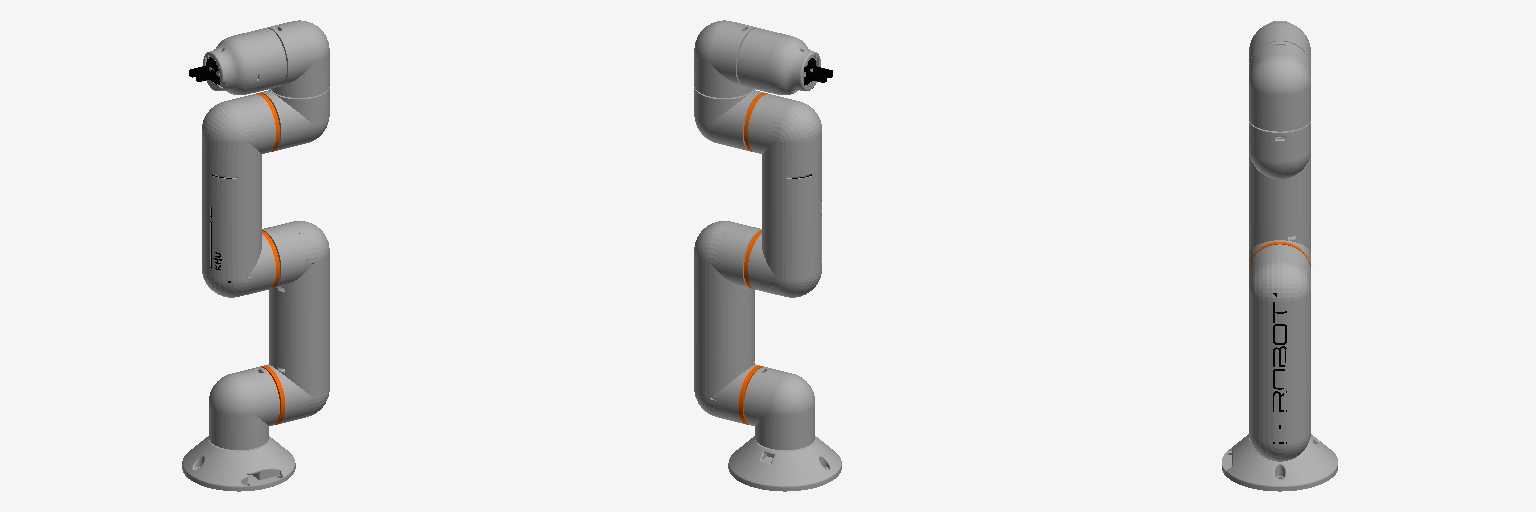
URDF robot description (6dof_gripper):
<?xml version="1.0" ?>
<robot name="6dof_gripper">

<material name="silver">
  <color rgba="0.700 0.700 0.700 1.000"/>
</material>

<material name="black">
  <color rgba="0.020 0.020 0.020 1.000"/>
</material>

<material name="orange">
  <color rgba="1.000 0.420 0.000 1.000"/>
</material>

<link name="base_link">
  <inertial>
    <origin xyz="0.0005722199975482752 0.004245800700454947 0.016568477430291967" rpy="0 0 0"/>
    <mass value="0.3701294923763933"/>
    <inertia ixx="0.000519" iyy="0.000543" izz="0.000945" ixy="3e-06" iyz="4e-06" ixz="0.0"/>
  </inertial>
  <visual>
    <origin xyz="0 0 0" rpy="0 0 0"/>
    <geometry>
      <mesh filename="package://6dof_description/meshes/base_link.stl" scale="0.001 0.001 0.001"/>
    </geometry>
    <material name="silver"/>
  </visual>
  <collision>
    <origin xyz="0 0 0" rpy="0 0 0"/>
    <geometry>
      <mesh filename="package://6dof_description/meshes/base_link.stl" scale="0.001 0.001 0.001"/>
    </geometry>
  </collision>
</link>

<link name="r_a_1">
  <inertial>
    <origin xyz="0.010425618761527602 0.0009926626669589911 0.03864859993028837" rpy="0 0 0"/>
    <mass value="0.17693816222578793"/>
    <inertia ixx="0.000227" iyy="0.000235" izz="0.00022" ixy="-1e-06" iyz="-1e-06" ixz="-2.3e-05"/>
  </inertial>
  <visual>
    <origin xyz="-0.0 -0.002984 -0.041554" rpy="0 0 0"/>
    <geometry>
      <mesh filename="package://6dof_description/meshes/r_a_1.stl" scale="0.001 0.001 0.001"/>
    </geometry>
    <material name="silver"/>
  </visual>
  <collision>
    <origin xyz="-0.0 -0.002984 -0.041554" rpy="0 0 0"/>
    <geometry>
      <mesh filename="package://6dof_description/meshes/r_a_1.stl" scale="0.001 0.001 0.001"/>
    </geometry>
  </collision>
</link>

<link name="link_1">
  <inertial>
    <origin xyz="0.0362299468747642 1.3495541677207516e-05 0.10093907219024545" rpy="0 0 0"/>
    <mass value="0.42379993240155933"/>
    <inertia ixx="0.003229" iyy="0.003244" izz="0.000556" ixy="0.0" iyz="0.0" ixz="4.5e-05"/>
  </inertial>
  <visual>
    <origin xyz="-0.04 -0.002984 -0.092054" rpy="0 0 0"/>
    <geometry>
      <mesh filename="package://6dof_description/meshes/link_1_engraved.stl" scale="0.001 0.001 0.001"/>
    </geometry>
    <material name="silver"/>
  </visual>
  <visual>
    <origin xyz="-0.04 -0.002984 -0.092054" rpy="0 0 0"/>
    <geometry>
      <mesh filename="package://6dof_description/meshes/link_1_engraving.stl" scale="0.001 0.001 0.001"/>
    </geometry>
    <material name="black"/>
  </visual>
  <visual>
    <origin xyz="-0.04 -0.002984 -0.092054" rpy="0 0 0"/>
    <geometry>
      <mesh filename="package://6dof_description/meshes/link_1_ring.stl" scale="0.001 0.001 0.001"/>
    </geometry>
    <material name="orange"/>
  </visual>
  <collision>
    <origin xyz="-0.04 -0.002984 -0.092054" rpy="0 0 0"/>
    <geometry>
      <mesh filename="package://6dof_description/meshes/link_1_engraved.stl" scale="0.001 0.001 0.001"/>
    </geometry>
  </collision>
  <collision>
    <origin xyz="-0.04 -0.002984 -0.092054" rpy="0 0 0"/>
    <geometry>
      <mesh filename="package://6dof_description/meshes/link_1_ring.stl" scale="0.001 0.001 0.001"/>
    </geometry>
  </collision>
</link>

<link name="link__1__1">
  <inertial>
    <origin xyz="-0.03622994687477521 -1.3274643730027368e-05 0.10093907219023918" rpy="0 0 0"/>
    <mass value="0.42379993240155933"/>
    <inertia ixx="0.003229" iyy="0.003244" izz="0.000556" ixy="0.0" iyz="-0.0" ixz="-4.5e-05"/>
  </inertial>
  <visual>
    <origin xyz="-0.04 -0.002984 -0.292054" rpy="0 0 0"/>
    <geometry>
      <mesh filename="package://6dof_description/meshes/link__1__1_engraved.stl" scale="0.001 0.001 0.001"/>
    </geometry>
    <material name="silver"/>
  </visual>
  <visual>
    <origin xyz="-0.04 -0.002984 -0.292054" rpy="0 0 0"/>
    <geometry>
      <mesh filename="package://6dof_description/meshes/link__1__1_engraving.stl" scale="0.001 0.001 0.001"/>
    </geometry>
    <material name="black"/>
  </visual>
  <visual>
    <origin xyz="-0.04 -0.002984 -0.292054" rpy="0 0 0"/>
    <geometry>
      <mesh filename="package://6dof_description/meshes/link__1__1_ring.stl" scale="0.001 0.001 0.001"/>
    </geometry>
    <material name="orange"/>
  </visual>
  <collision>
    <origin xyz="-0.04 -0.002984 -0.292054" rpy="0 0 0"/>
    <geometry>
      <mesh filename="package://6dof_description/meshes/link__1__1_engraved.stl" scale="0.001 0.001 0.001"/>
    </geometry>
  </collision>
  <collision>
    <origin xyz="-0.04 -0.002984 -0.292054" rpy="0 0 0"/>
    <geometry>
      <mesh filename="package://6dof_description/meshes/link__1__1_ring.stl" scale="0.001 0.001 0.001"/>
    </geometry>
  </collision>
</link>

<link name="r_a__1__1">
  <inertial>
    <origin xyz="0.03864887449338581 -0.0009924417690017292 0.010425344198421005" rpy="0 0 0"/>
    <mass value="0.17693816222578793"/>
    <inertia ixx="0.00022" iyy="0.000235" izz="0.000227" ixy="1e-06" iyz="1e-06" ixz="-2.3e-05"/>
  </inertial>
  <visual>
    <origin xyz="-0.04 -0.002984 -0.492054" rpy="0 0 0"/>
    <geometry>
      <mesh filename="package://6dof_description/meshes/r_a__1__1.stl" scale="0.001 0.001 0.001"/>
    </geometry>
    <material name="silver"/>
  </visual>
  <collision>
    <origin xyz="-0.04 -0.002984 -0.492054" rpy="0 0 0"/>
    <geometry>
      <mesh filename="package://6dof_description/meshes/r_a__1__1.stl" scale="0.001 0.001 0.001"/>
    </geometry>
  </collision>
</link>

<link name="r_a__2__1">
  <inertial>
    <origin xyz="-0.010425618761524535 -0.0009924417689934207 0.03864859993027925" rpy="0 0 0"/>
    <mass value="0.17693816222578793"/>
    <inertia ixx="0.000227" iyy="0.000235" izz="0.00022" ixy="-1e-06" iyz="1e-06" ixz="2.3e-05"/>
  </inertial>
  <visual>
    <origin xyz="-0.0905 -0.002984 -0.532054" rpy="0 0 0"/>
    <geometry>
      <mesh filename="package://6dof_description/meshes/r_a__2__1.stl" scale="0.001 0.001 0.001"/>
    </geometry>
    <material name="silver"/>
  </visual>
  <collision>
    <origin xyz="-0.0905 -0.002984 -0.532054" rpy="0 0 0"/>
    <geometry>
      <mesh filename="package://6dof_description/meshes/r_a__2__1.stl" scale="0.001 0.001 0.001"/>
    </geometry>
  </collision>
</link>

<link name="housing_1">
  <!-- housing_1.stl removed; fixed gripper (gripper.stl) on the same link, generated by pinch_sim.build_scene -->
  <inertial>
    <origin xyz="-0.045855 0.000223 -0.000017" rpy="0 0 0"/>
    <mass value="0.220000"/>
    <inertia ixx="0.000143708" iyy="0.000185703" izz="0.000184536" ixy="0.000001652" ixz="-0.000000424" iyz="0.000001042"/>
  </inertial>
  <visual>
    <origin xyz="0.063911 0.242590 0.114841" rpy="-1.570796 -0.000000 1.570796"/>
    <geometry>
      <mesh filename="package://6dof_description/meshes/gripper_body.stl" scale="0.001 0.001 0.001"/>
    </geometry>
    <material name="silver"/>
  </visual>
  <visual>
    <origin xyz="0.063911 0.242590 0.114841" rpy="-1.570796 -0.000000 1.570796"/>
    <geometry>
      <mesh filename="package://6dof_description/meshes/gripper_fingers.stl" scale="0.001 0.001 0.001"/>
    </geometry>
    <material name="black"/>
  </visual>
  <collision>
    <origin xyz="0.063911 0.242590 0.114841" rpy="-1.570796 -0.000000 1.570796"/>
    <geometry>
      <mesh filename="package://6dof_description/meshes/gripper.stl" scale="0.001 0.001 0.001"/>
    </geometry>
  </collision>
</link>

<joint name="Revolute_1" type="revolute">
  <origin xyz="0.0 0.002984 0.043554" rpy="0 0 0"/>
  <parent link="base_link"/>
  <child link="r_a_1"/>
  <axis xyz="0.0 0.0 1.0"/>
  <limit lower="-3.14159" upper="3.14159" effort="10.0" velocity="3.0"/>
</joint>

<joint name="Revolute_2" type="revolute">
  <origin xyz="0.042 0.0 0.0505" rpy="0 0 0"/>
  <parent link="r_a_1"/>
  <child link="link_1"/>
  <axis xyz="1.0 0.0 0.0"/>
  <limit lower="-3.14159" upper="3.14159" effort="10.0" velocity="3.0"/>
</joint>

<joint name="Revolute_3" type="revolute">
  <origin xyz="-0.002 0.0 0.2" rpy="0 0 0"/>
  <parent link="link_1"/>
  <child link="link__1__1"/>
  <axis xyz="-1.0 0.0 0.0"/>
  <limit lower="-3.14159" upper="3.14159" effort="10.0" velocity="3.0"/>
</joint>

<joint name="Revolute_4" type="revolute">
  <origin xyz="0.002 0.0 0.2" rpy="0 0 0"/>
  <parent link="link__1__1"/>
  <child link="r_a__1__1"/>
  <axis xyz="1.0 -0.0 -0.0"/>
  <limit lower="-3.14159" upper="3.14159" effort="10.0" velocity="3.0"/>
</joint>

<joint name="Revolute_5" type="revolute">
  <origin xyz="0.0505 0.0 0.042" rpy="0 0 0"/>
  <parent link="r_a__1__1"/>
  <child link="r_a__2__1"/>
  <axis xyz="0.0 0.0 1.0"/>
  <limit lower="-3.14159" upper="3.14159" effort="10.0" velocity="3.0"/>
</joint>

<joint name="Revolute_6" type="revolute">
  <origin xyz="-0.042 0.0 0.0505" rpy="0 0 0"/>
  <parent link="r_a__2__1"/>
  <child link="housing_1"/>
  <axis xyz="-1.0 0.0 -0.0"/>
  <limit lower="-3.14159" upper="3.14159" effort="10.0" velocity="3.0"/>
</joint>

</robot>

--- Facts derived from the render (not from the file) ---
Views: 3 orthographic renders of the robot side by side, from view 1: azimuth 30°, elevation 25°; view 2: azimuth 150°, elevation 25°; view 3: azimuth 270°, elevation 25°.
Robot: 6dof_gripper — 7 links, 6 joints (6 revolute); root link base_link; default pose: all joints at 0.
Visible links, largest first — view 1: link__1__1, link_1, r_a_1, housing_1, base_link, r_a__2__1, r_a__1__1; view 2: link__1__1, link_1, r_a_1, housing_1, base_link, r_a__2__1, r_a__1__1; view 3: link_1, r_a__2__1, link__1__1, base_link, r_a__1__1, housing_1.
Boxes of the visible links, x1,y1,x2,y2 form: link__1__1: (202, 93, 279, 297); link_1: (260, 221, 329, 424); r_a_1: (209, 367, 279, 449); housing_1: (189, 28, 286, 94); base_link: (182, 436, 295, 491); r_a__2__1: (267, 20, 329, 97); r_a__1__1: (260, 87, 329, 151); link__1__1: (744, 93, 821, 297); link_1: (694, 221, 763, 424); r_a_1: (744, 367, 814, 449); housing_1: (737, 28, 832, 94); base_link: (728, 436, 841, 491); r_a__2__1: (694, 20, 756, 97); r_a__1__1: (694, 87, 763, 151); link_1: (1249, 244, 1310, 461); r_a__2__1: (1249, 41, 1310, 131); link__1__1: (1249, 137, 1310, 266); base_link: (1222, 434, 1337, 491); r_a__1__1: (1249, 121, 1310, 178); housing_1: (1249, 21, 1310, 63).
Size in the robot's own frame: 0.2077 by 0.15 by 0.627 metres.
Meshes: 12 distinct files referenced, 12 mesh visuals loaded (12 binary STL).
